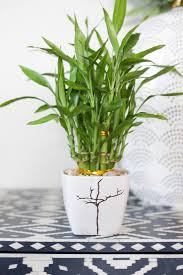bamboo: (1, 1, 183, 168)
